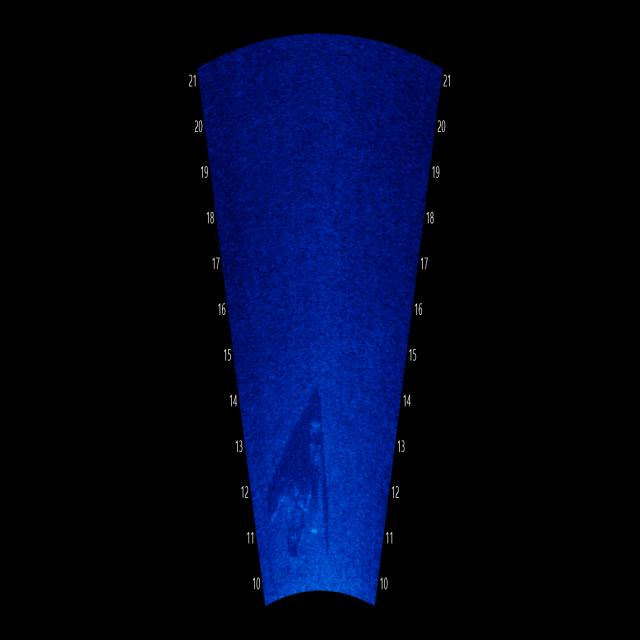triangle: (263, 372, 349, 567)
